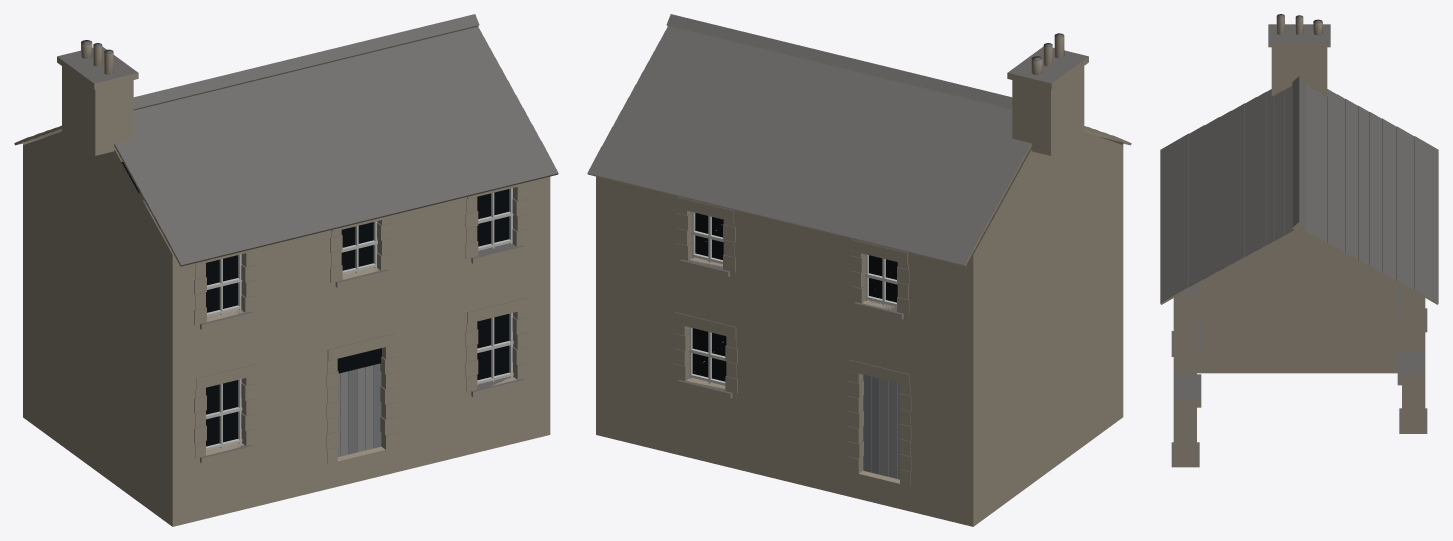
File: context.dales.house_07.glb
3 renders of one model, left to right at view 1: azimuth 30°, elevation 25°; view 2: azimuth 150°, elevation 25°; view 3: azimuth 270°, elevation 25°, orthographic. The views are drawn at different scales.
Parts seen in each view (by area): view 1: main__stone_a98, main__slate_666, main__glass_dark, main__paint_ccc, main__paint_999, main__paint_888; view 2: main__stone_a98, main__slate_666, main__glass_dark, main__paint_999, main__paint_ccc, main__paint_888; view 3: main__slate_666, main__stone_a98.
Boxes of the visible parts, box(x1,y1,x2,y2) form: main__stone_a98: box(14, 25, 558, 526); main__slate_666: box(28, 14, 558, 458); main__glass_dark: box(121, 162, 509, 446); main__paint_ccc: box(206, 188, 513, 450); main__paint_999: box(337, 365, 373, 456); main__paint_888: box(348, 363, 381, 454); main__stone_a98: box(587, 25, 1131, 526); main__slate_666: box(587, 14, 1114, 471); main__glass_dark: box(692, 213, 897, 381); main__paint_999: box(880, 379, 900, 479); main__paint_ccc: box(688, 212, 897, 385); main__paint_888: box(863, 375, 879, 474); main__slate_666: box(1160, 14, 1438, 463); main__stone_a98: box(1160, 16, 1438, 467).
Bounding box in the file's own units: 8.3 × 8.51 × 6.
